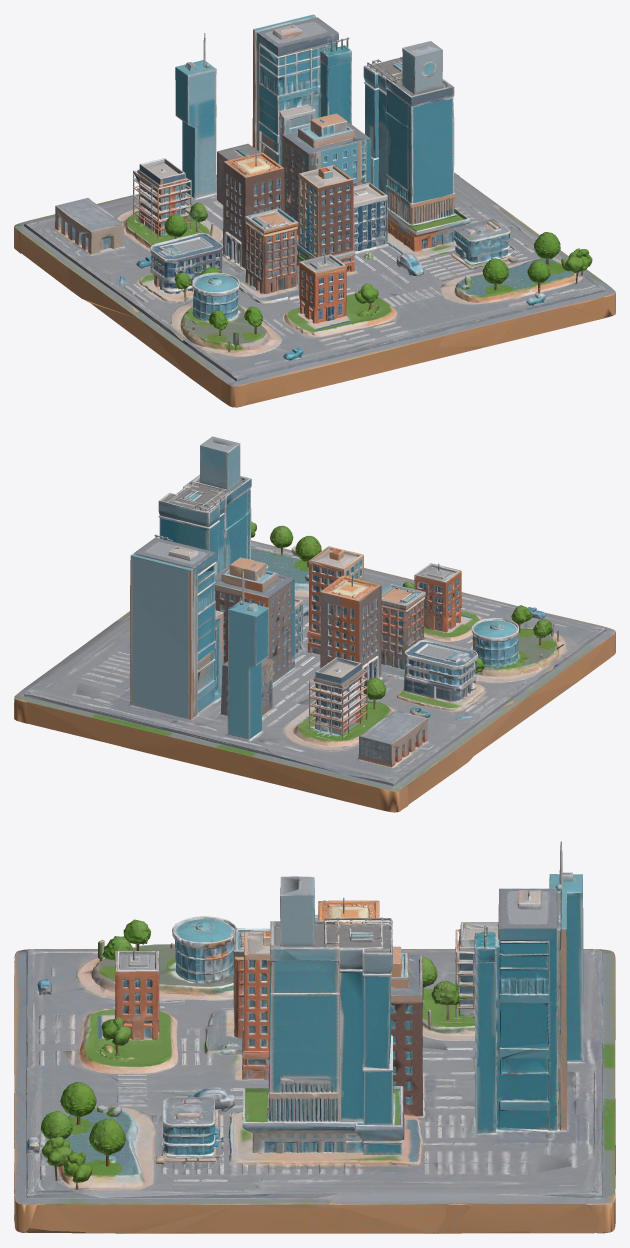
The model's file is city.glb.
The picture shows the model from 3 angles, top to bottom: view 1: azimuth 30°, elevation 25°; view 2: azimuth 150°, elevation 25°; view 3: azimuth 270°, elevation 25°; orthographic projection. The views are drawn at different scales.
Size of the model in its own units: 1.9 by 1 by 1.89.
1 material, 1 textured.
